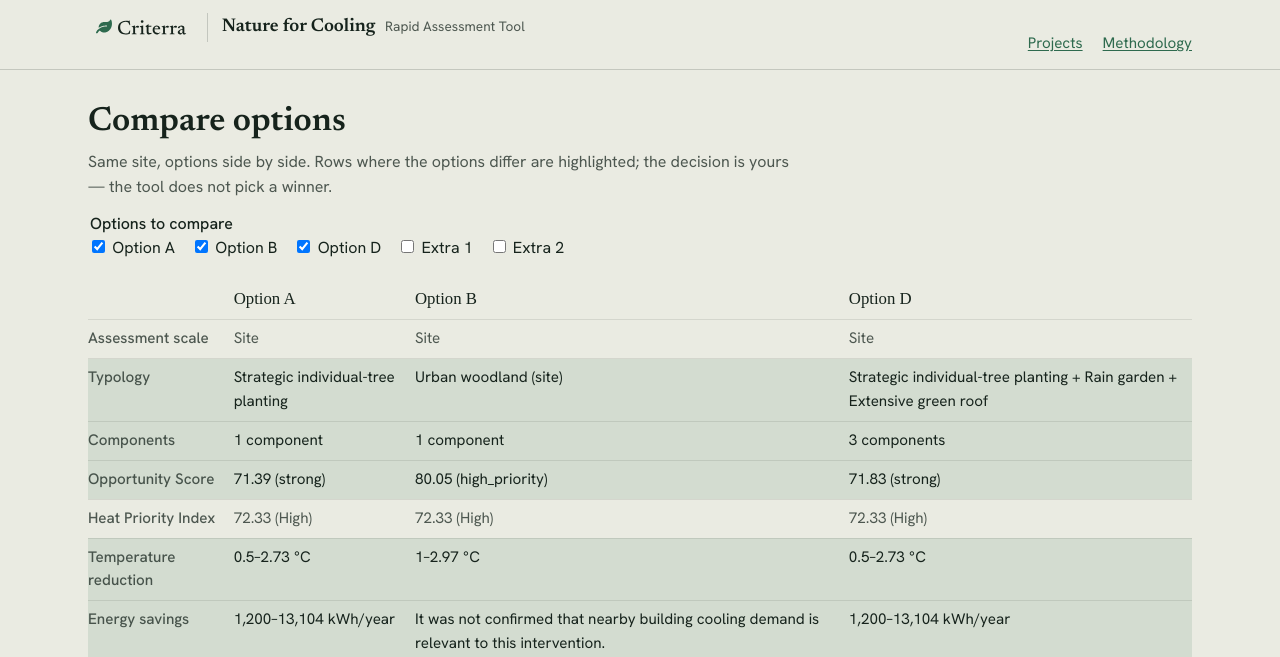
it: CompareScreen › withholds the export above four options and says why
Check: the heading "Compare options" is shown, box [88,105,346,139]
Click the checkbox labelled "Extra 1". click: (408, 247)
box: [401,240,414,254]
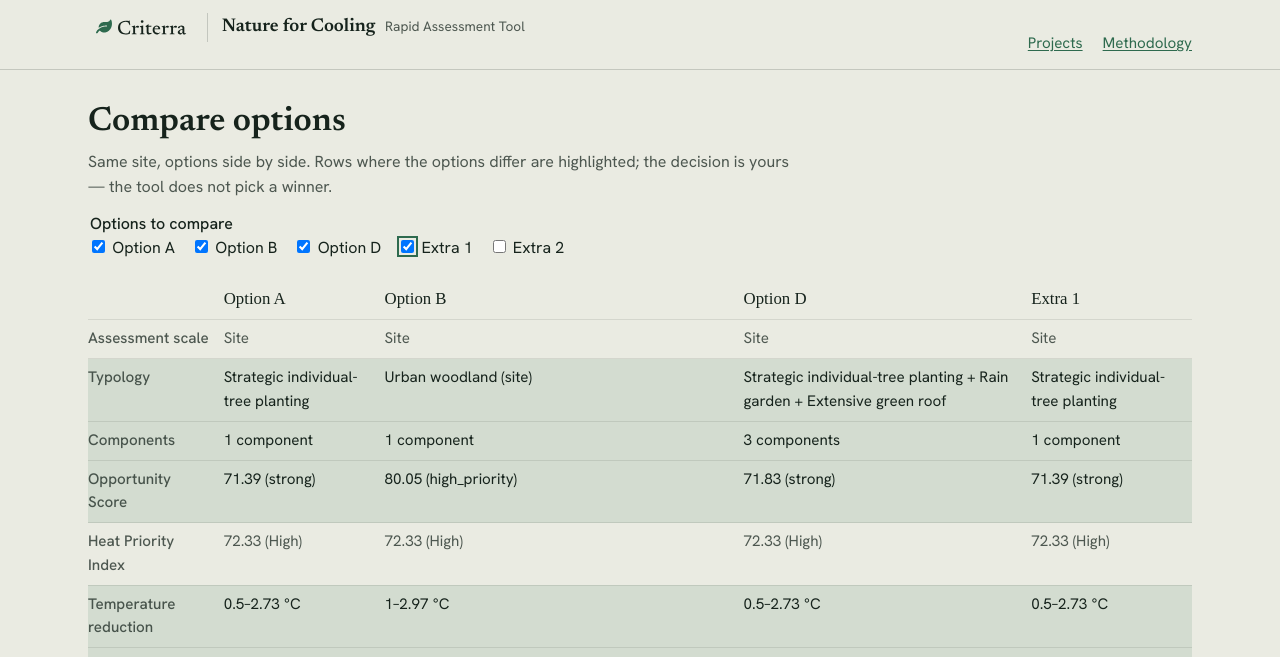
Click the checkbox labelled "Extra 2". click: (499, 247)
box: [493,240,506,254]
(page scrolled)
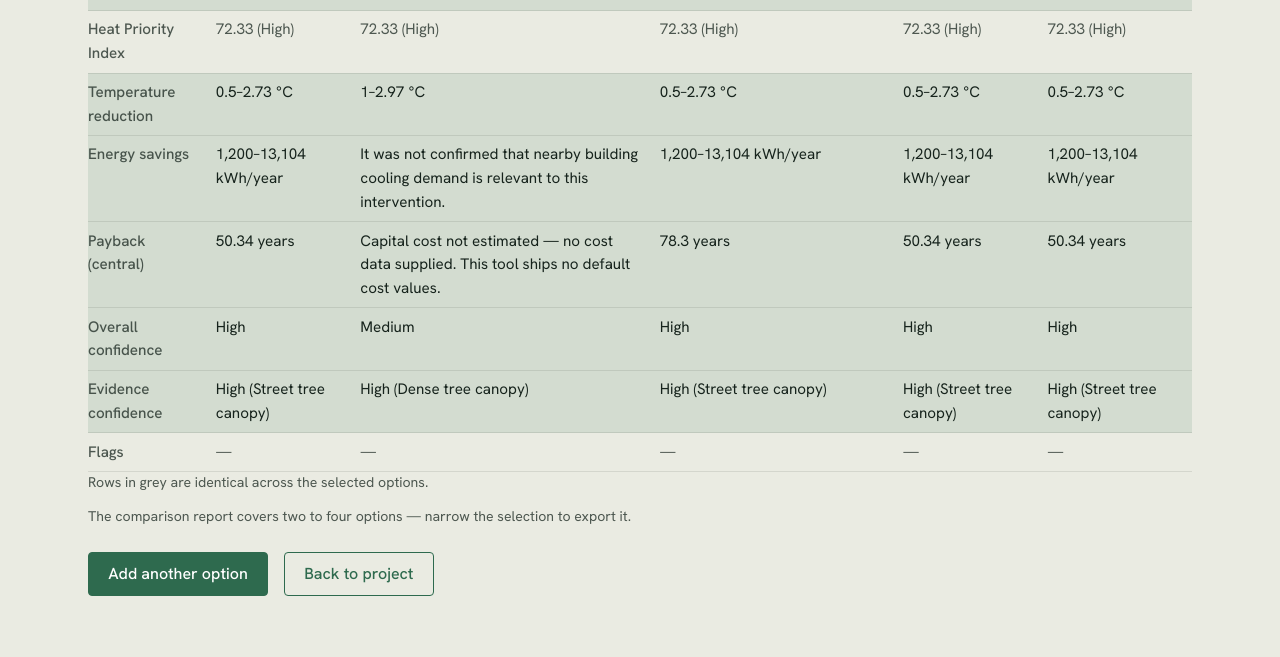
Check: the text "The comparison report covers two to four options — narrow the selection to export it." is shown, box [88,507,631,525]
